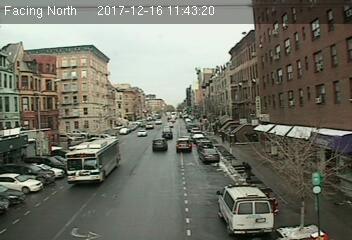bus: (65, 137, 120, 184)
car: (199, 146, 220, 164), (176, 137, 192, 151), (151, 137, 167, 150)
police: (218, 183, 275, 234)
